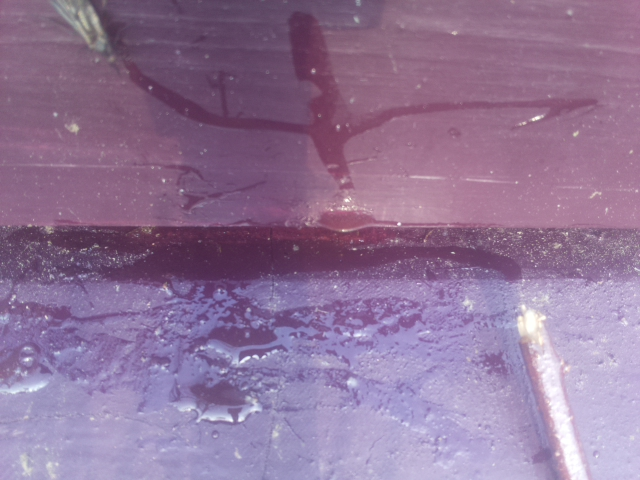ant: (59, 4, 122, 65), (0, 344, 48, 388)
